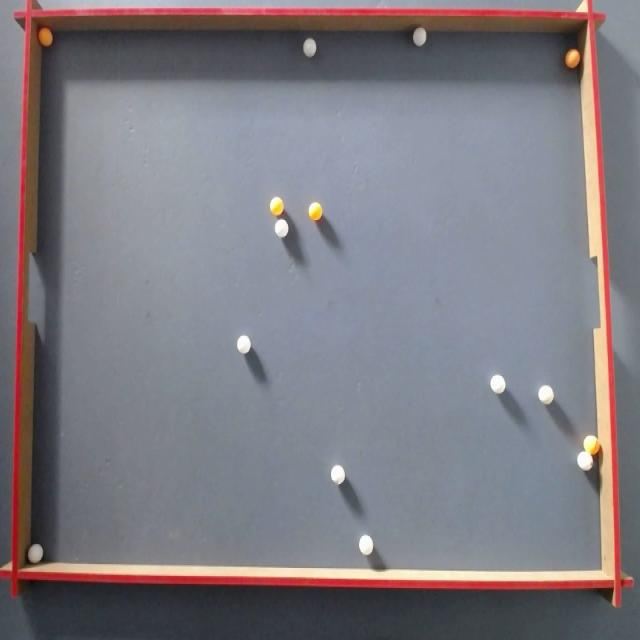orange_ball: (584, 435, 599, 455), (38, 27, 53, 46), (565, 49, 580, 68), (309, 202, 322, 220), (270, 197, 283, 215)
white_ball: (28, 543, 44, 564), (490, 374, 506, 394), (577, 451, 593, 471), (538, 385, 553, 404), (359, 535, 373, 555), (237, 335, 251, 354), (274, 220, 288, 238), (303, 38, 316, 57), (413, 27, 426, 46), (331, 465, 344, 484)
